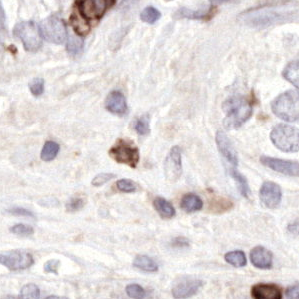Lymphocyte: (108, 137, 142, 168)
